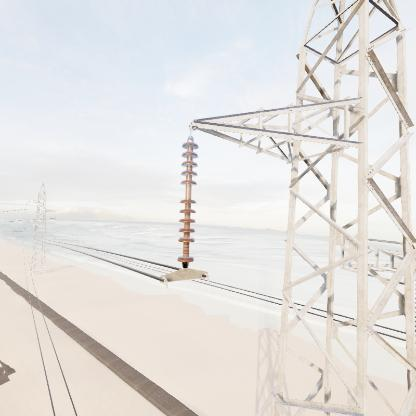insulator: (175, 138, 203, 269)
